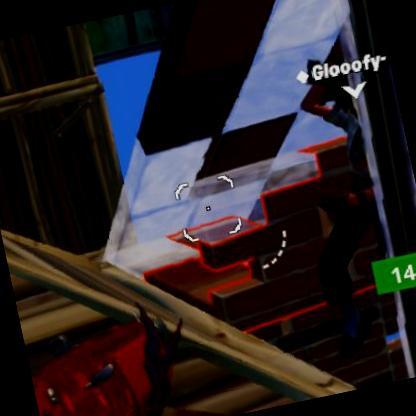person: (282, 94, 413, 365)
